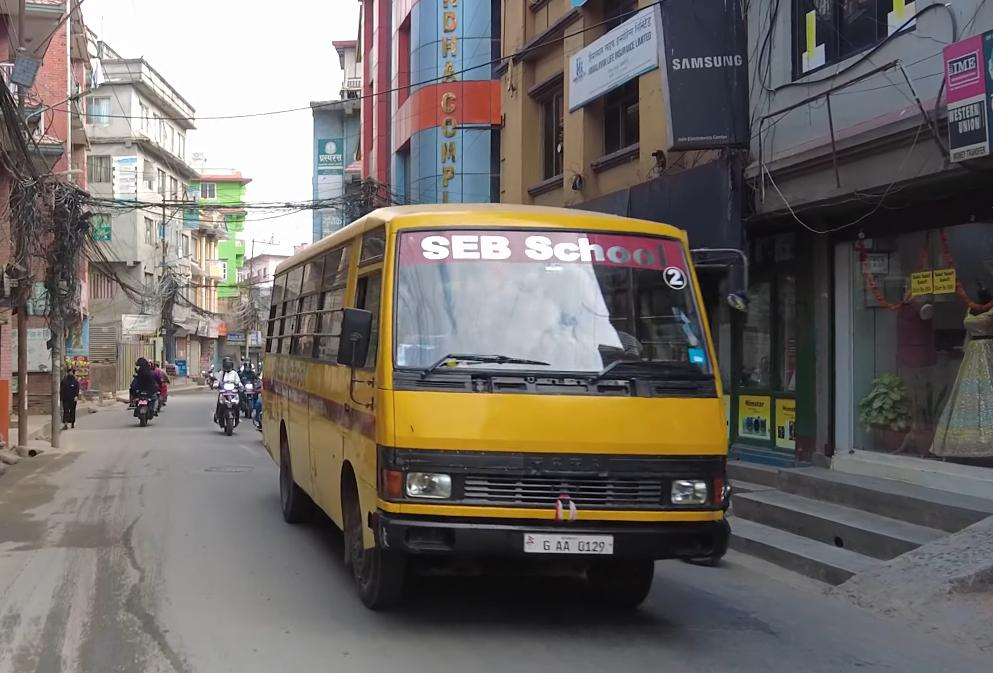bike: (130, 375, 159, 431)
school_bus: (253, 200, 757, 623)
scooter: (210, 373, 244, 443)
